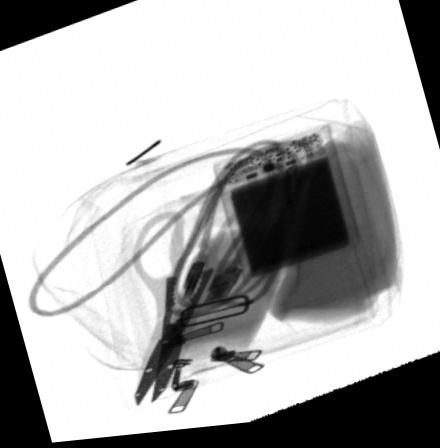Powerbank: (215, 129, 362, 289)
Scissors: (131, 203, 273, 411)
